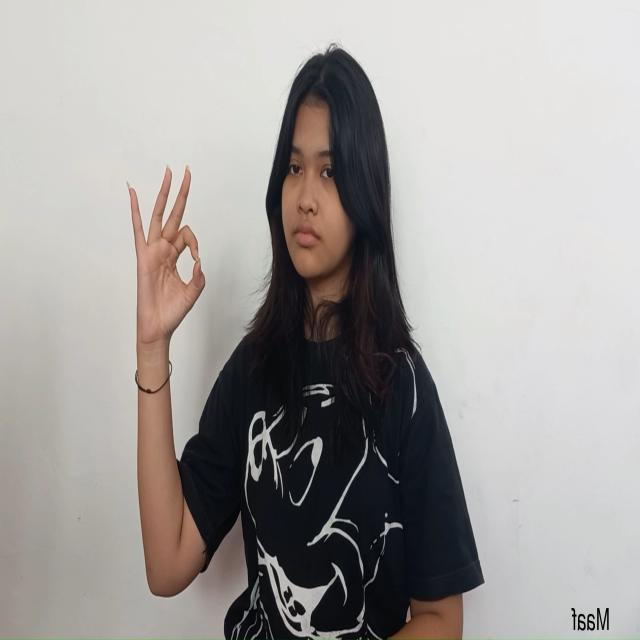Maaf -BISINDO-: (125, 161, 207, 369)
